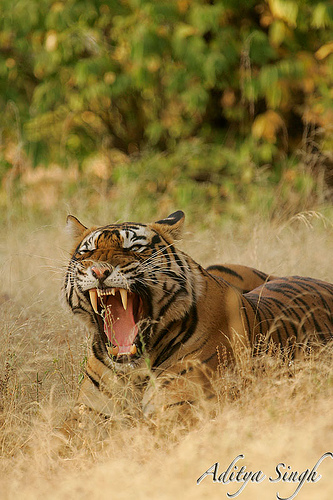Tigre: (49, 194, 326, 405)
